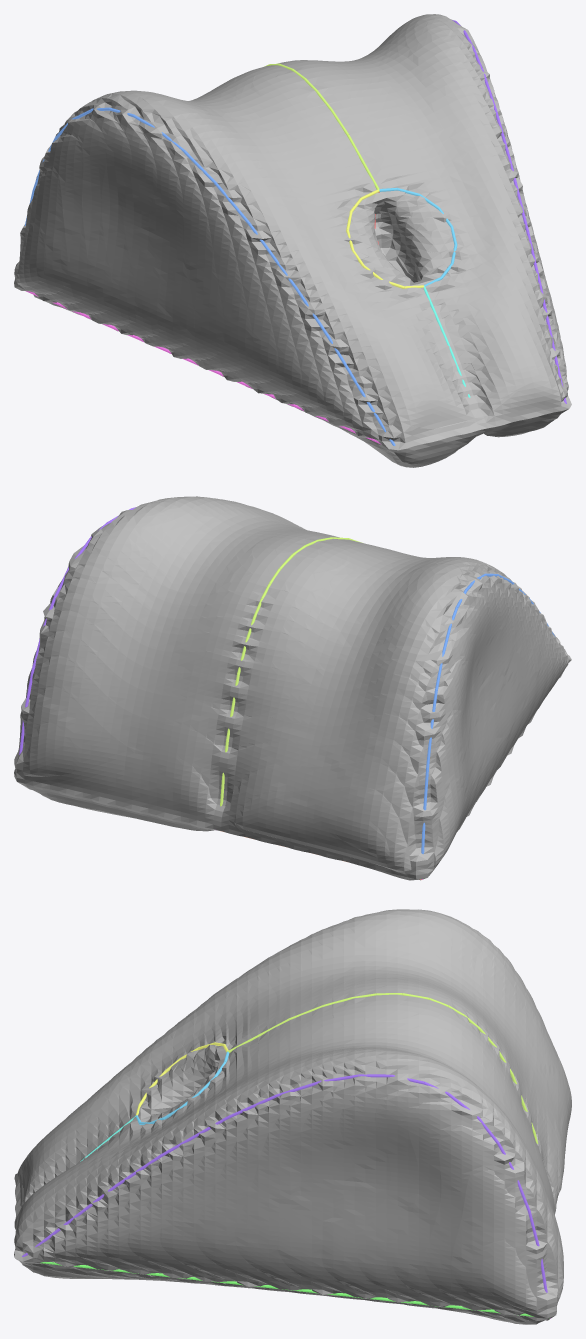
Rendered from onshape_simple_mouse.gltf.
3 views of the same model, one above another, from view 1: azimuth 30°, elevation 25°; view 2: azimuth 150°, elevation 25°; view 3: azimuth 270°, elevation 25° (orthographic).
Bounding box in the file's own units: 0.662 × 0.3945 × 0.7428.
